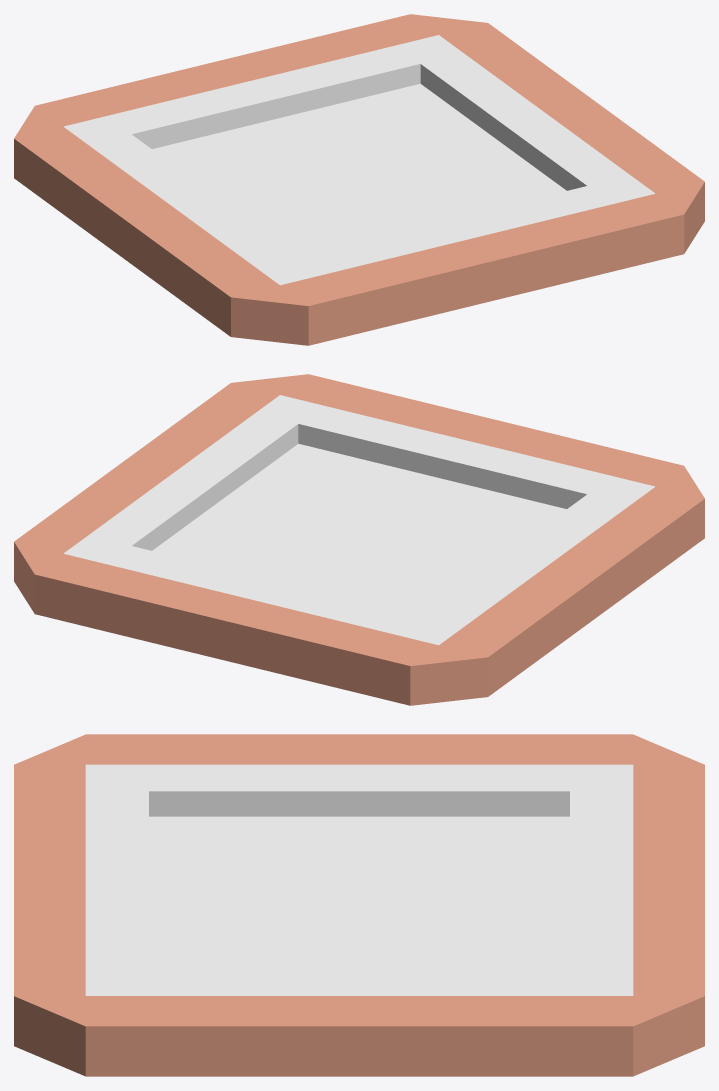
The model's file is metalTileSmall.glb.
3 views of the same model, one above another, from view 1: azimuth 30°, elevation 25°; view 2: azimuth 150°, elevation 25°; view 3: azimuth 270°, elevation 25° (orthographic). The views are drawn at different scales.
Parts seen in each view (by area): view 1: metalTileSmall; view 2: metalTileSmall; view 3: metalTileSmall.
Boxes of the visible parts, <box> form: metalTileSmall: <box>14,14,704,345</box>; metalTileSmall: <box>14,374,704,705</box>; metalTileSmall: <box>14,734,704,1076</box>.
Size of the model in its own units: 5 by 0.4 by 5.
